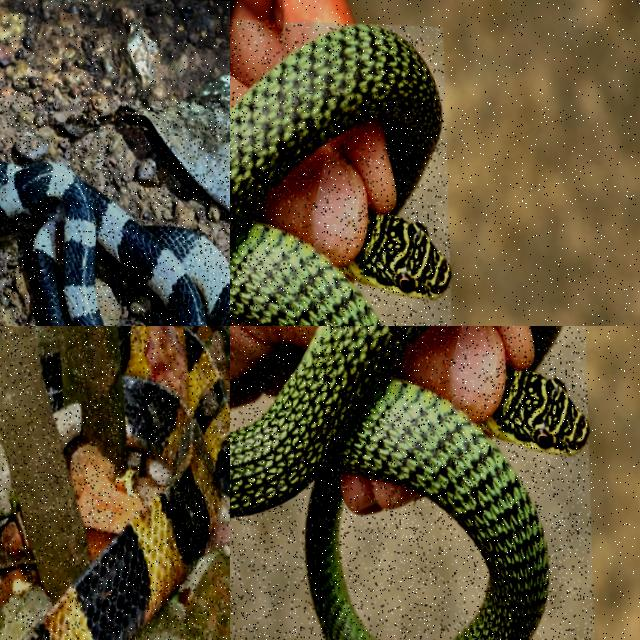Bungarus candidus: (0, 162, 229, 325)
Bungarus fasciatus: (23, 337, 229, 639)
Chrysopelea ornata: (230, 326, 548, 639), (230, 25, 440, 325)
